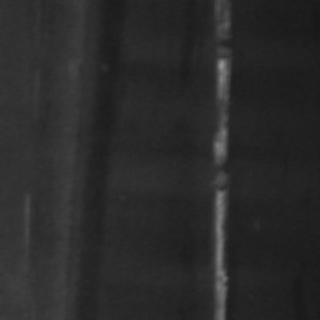scratches: (203, 5, 233, 317)
